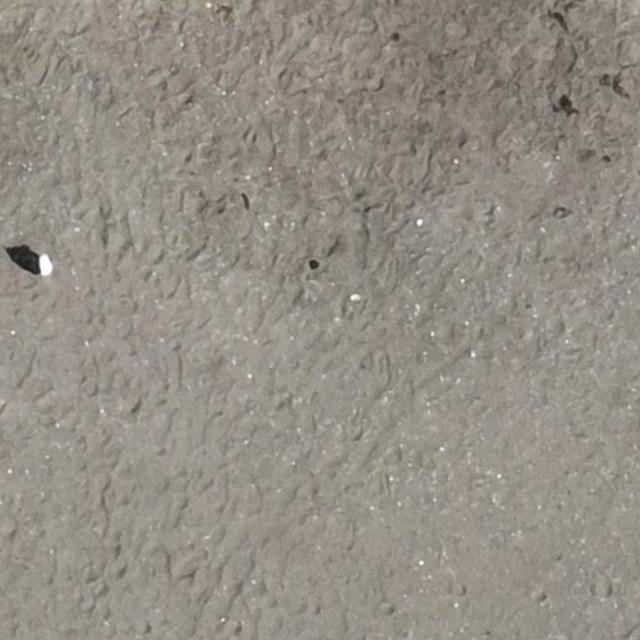umineko: (8, 250, 51, 276)
